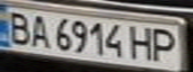1: (87, 19, 106, 56)
4: (103, 21, 130, 59)
6: (48, 16, 72, 52)
9: (66, 18, 90, 54)
A: (24, 12, 51, 48)
B: (3, 9, 33, 45)
H: (124, 24, 160, 61)
P: (148, 26, 184, 63)
